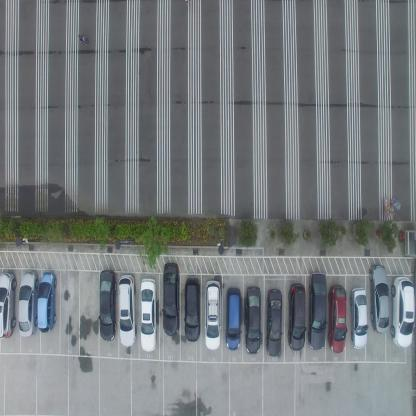car: (391, 275, 416, 349), (307, 271, 327, 351), (368, 263, 390, 334), (117, 275, 137, 349), (36, 268, 57, 334), (99, 268, 118, 340), (18, 268, 38, 336), (139, 276, 157, 351), (162, 261, 180, 336), (288, 282, 307, 352), (204, 278, 222, 351), (328, 284, 346, 354), (349, 287, 368, 350), (266, 286, 283, 356), (0, 270, 17, 339), (184, 275, 201, 342), (246, 284, 262, 354), (225, 287, 242, 350)
